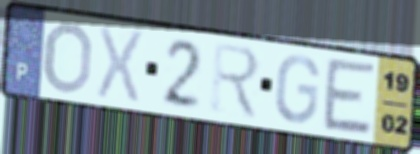2: (159, 37, 205, 112)
E: (321, 55, 379, 139)
G: (272, 53, 322, 126)
O: (40, 19, 95, 96)
R: (208, 39, 263, 123)
X: (94, 23, 147, 107)
